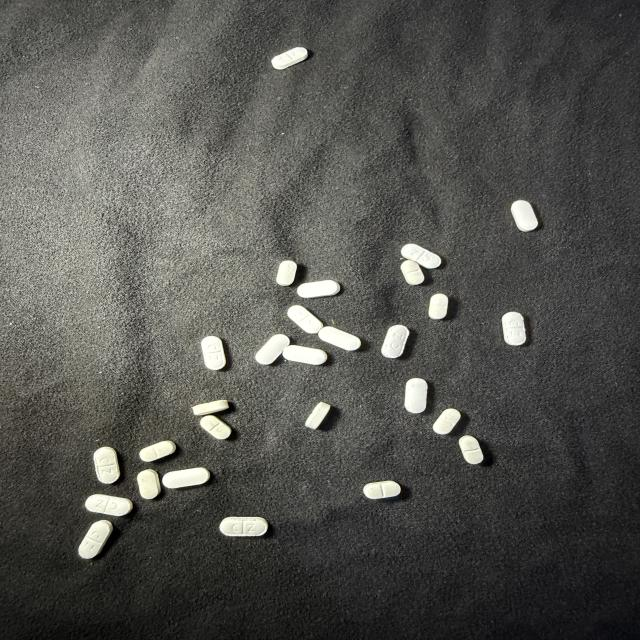pill: (79, 520, 113, 559), (255, 334, 289, 364), (318, 327, 361, 350), (287, 305, 322, 333), (162, 468, 210, 488), (401, 244, 441, 268), (85, 495, 132, 515), (381, 325, 409, 358), (220, 517, 268, 536), (94, 447, 119, 483), (502, 311, 526, 346), (511, 200, 538, 231), (283, 346, 327, 365), (297, 280, 340, 298), (405, 378, 427, 413), (272, 47, 307, 69), (202, 336, 225, 369), (200, 415, 231, 439), (140, 441, 175, 461), (433, 409, 460, 434), (305, 402, 330, 429), (459, 436, 483, 464), (137, 470, 160, 499), (363, 481, 400, 499), (401, 260, 424, 285), (192, 400, 228, 415), (276, 260, 297, 285), (428, 294, 448, 319)
